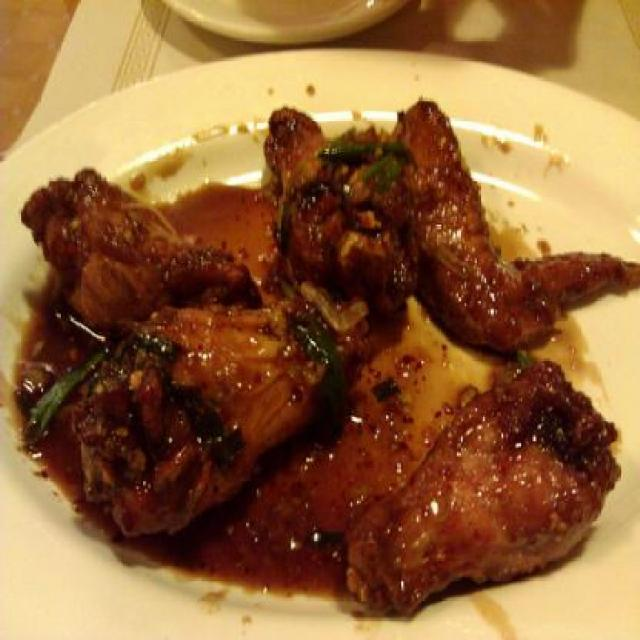Deep fried chicken wing: (61, 114, 613, 583)
